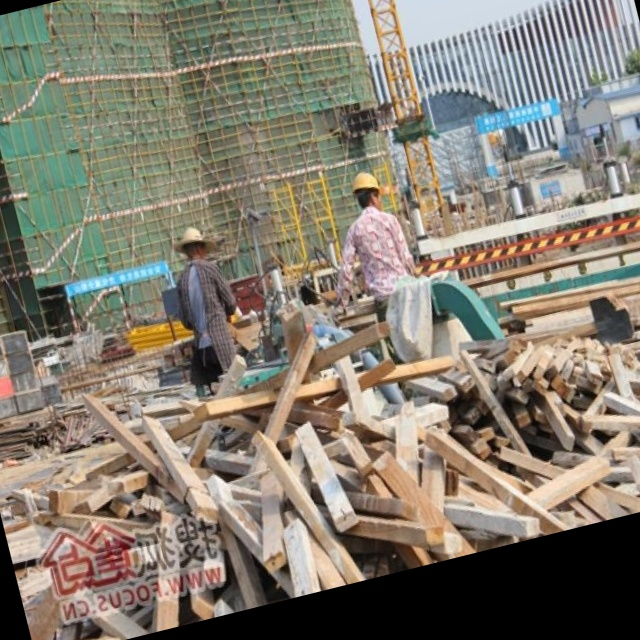Con_Casco: (348, 169, 386, 212)
Sin_Chaleco: (348, 205, 413, 298), (172, 258, 232, 352)
